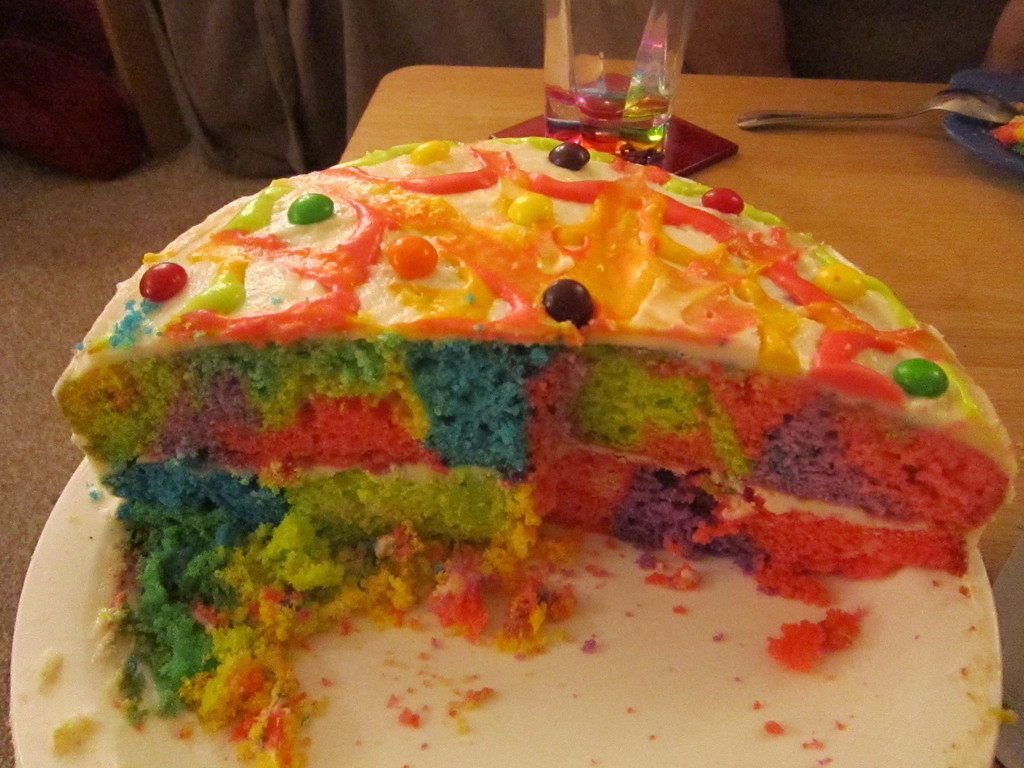cake: (49, 140, 1014, 767)
